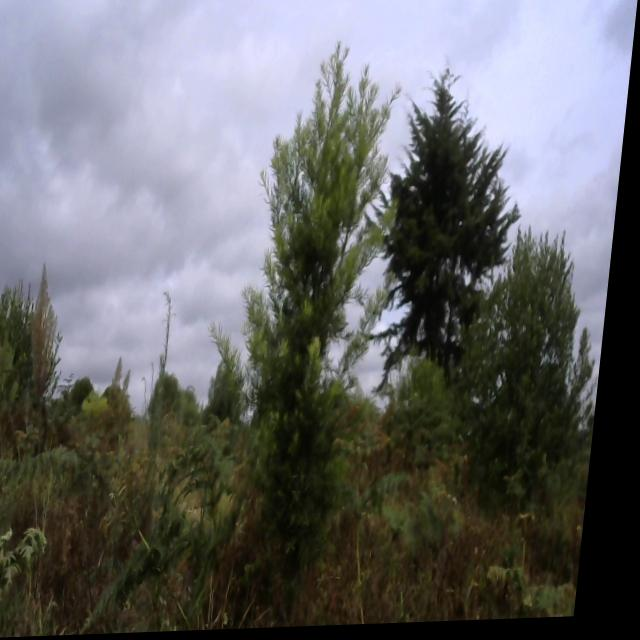Podocarpus falcatus: (238, 61, 414, 535)
Salix alba: (457, 238, 615, 510)
cedrus: (373, 68, 533, 362)
